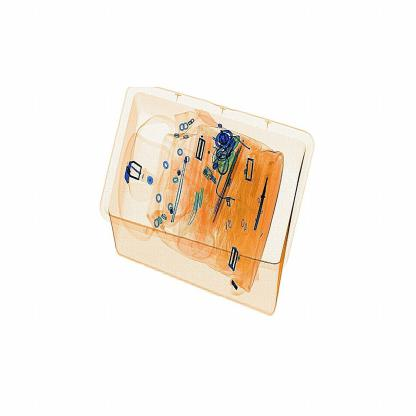gun: (246, 154, 275, 235)
